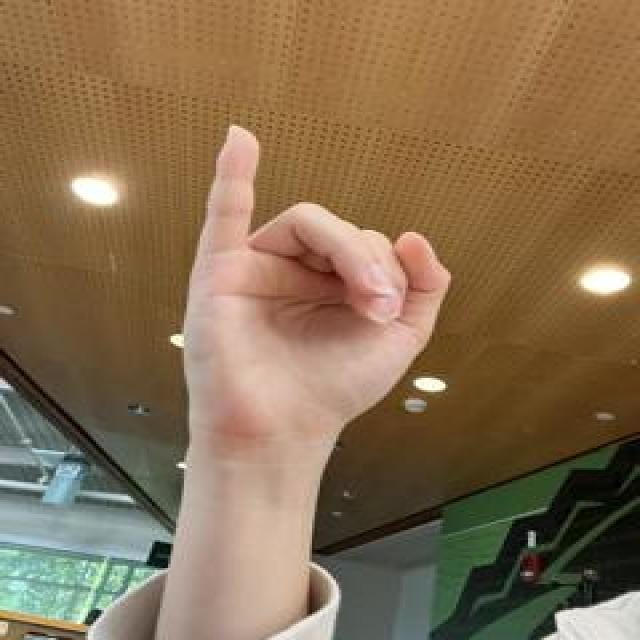I: (176, 117, 459, 443)
